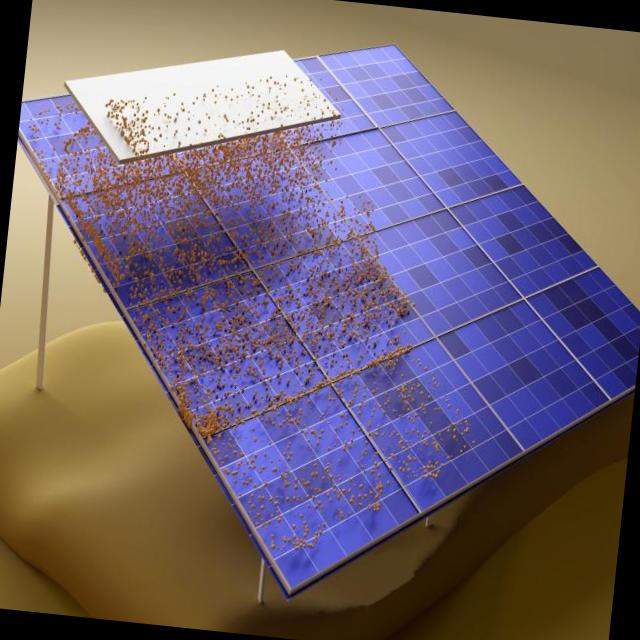faulty: (18, 40, 640, 583)
